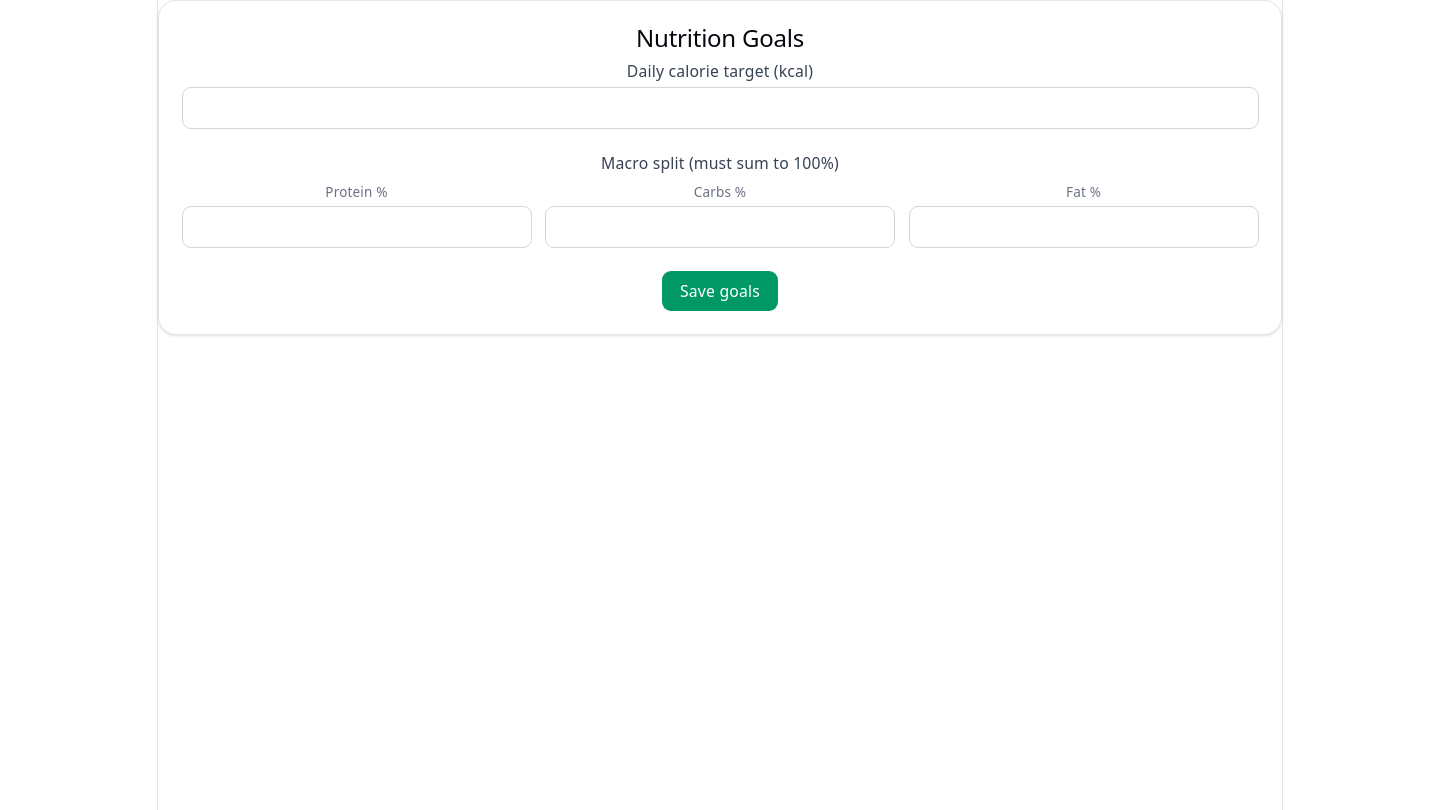
Test: GoalsEditor — macro sum validation (Req 7.3) › shows macro-sum error when percentages do not add up to 100
Note: Fill in a calorie target
Type "2000" into the number field labelled "Daily calorie target (kcal)" at x=720, y=108, box [182,87,1258,129]
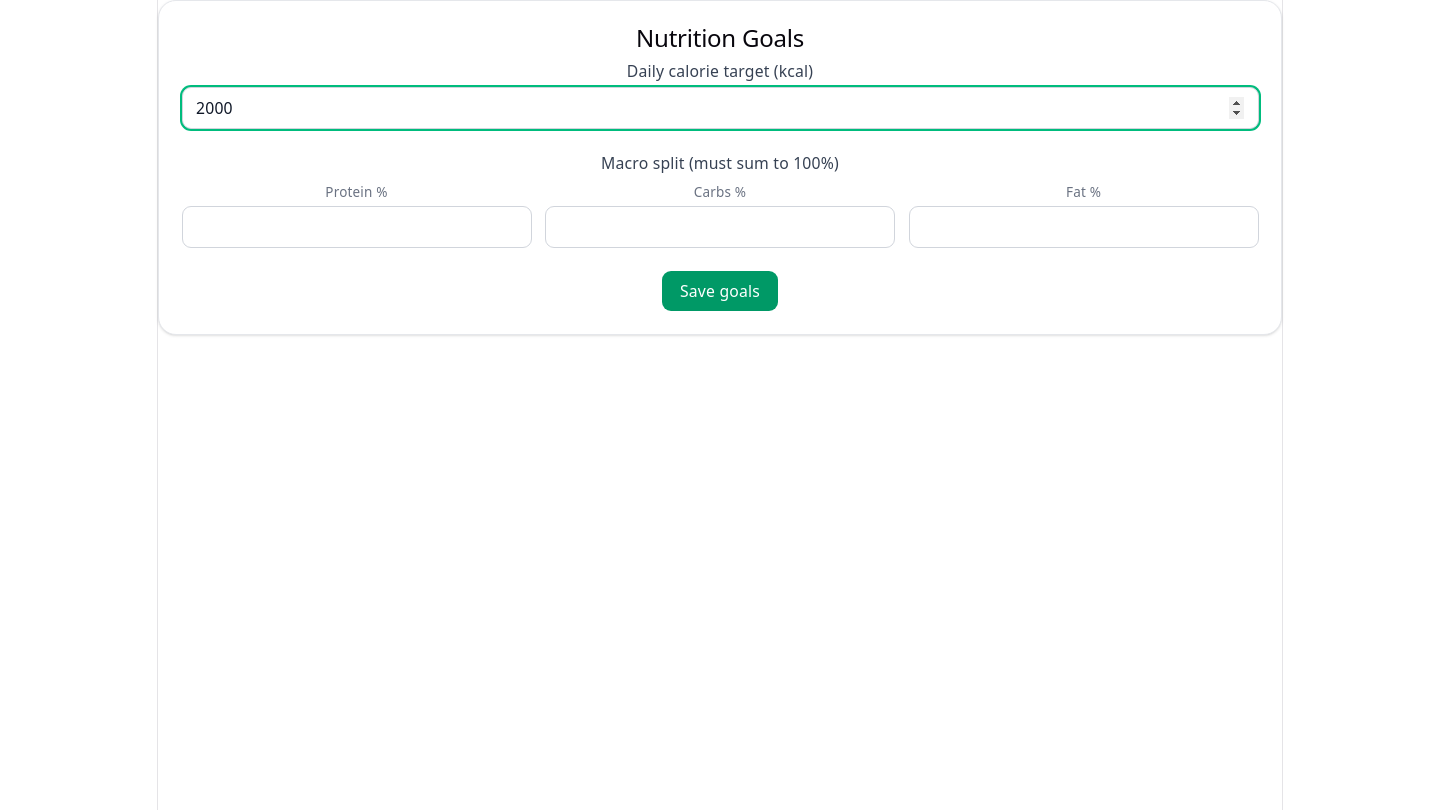
Type "50" into the number field named "protein percentage" at x=356, y=227, box [182,206,532,248]
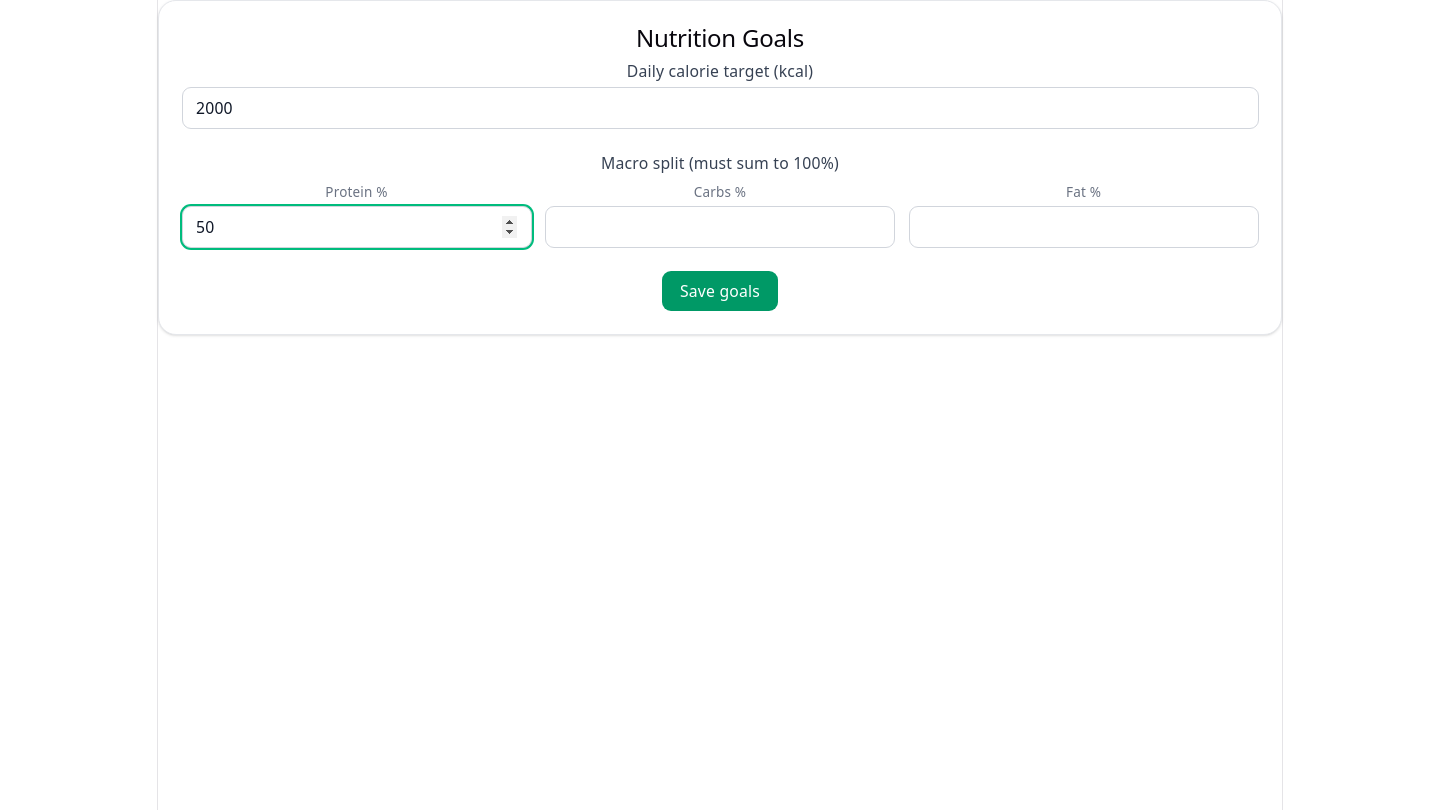
Type "40" into the number field named "carbohydrates percentage" at x=720, y=227, box [545,206,895,248]
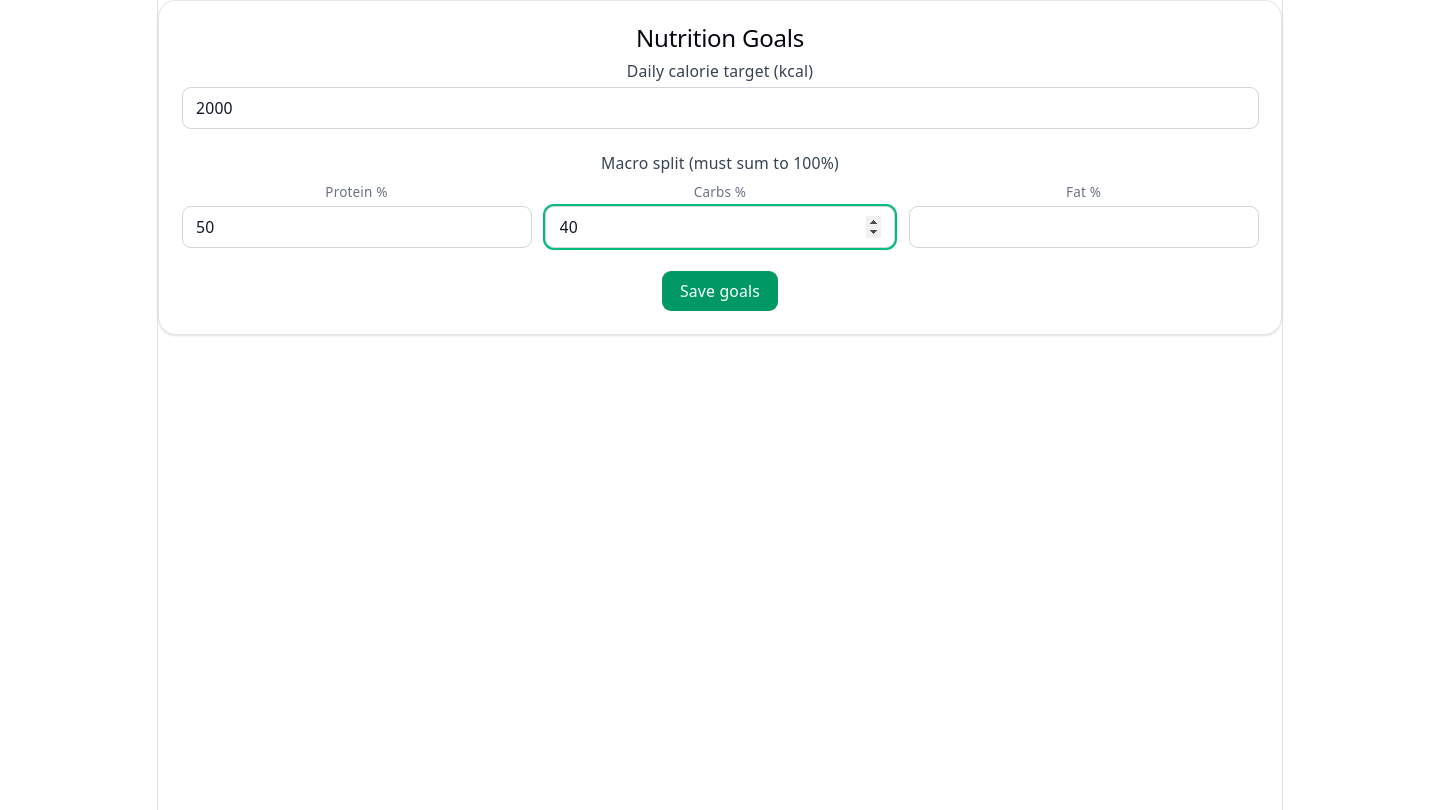
Type "20" into the number field named "fat percentage" at x=1084, y=227, box [908,206,1258,248]
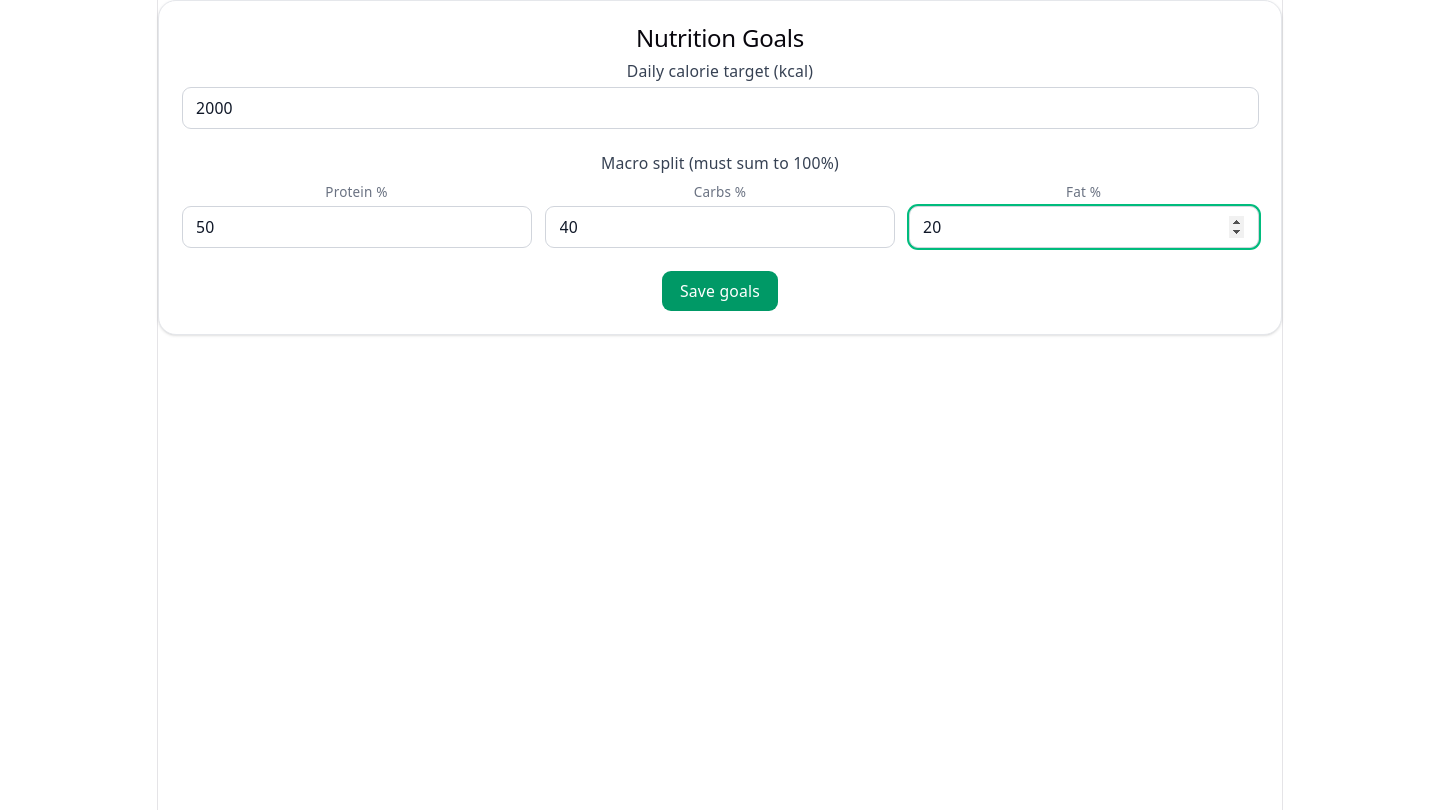
Click the button "Save goals" at x=720, y=291, box [662,271,778,311]
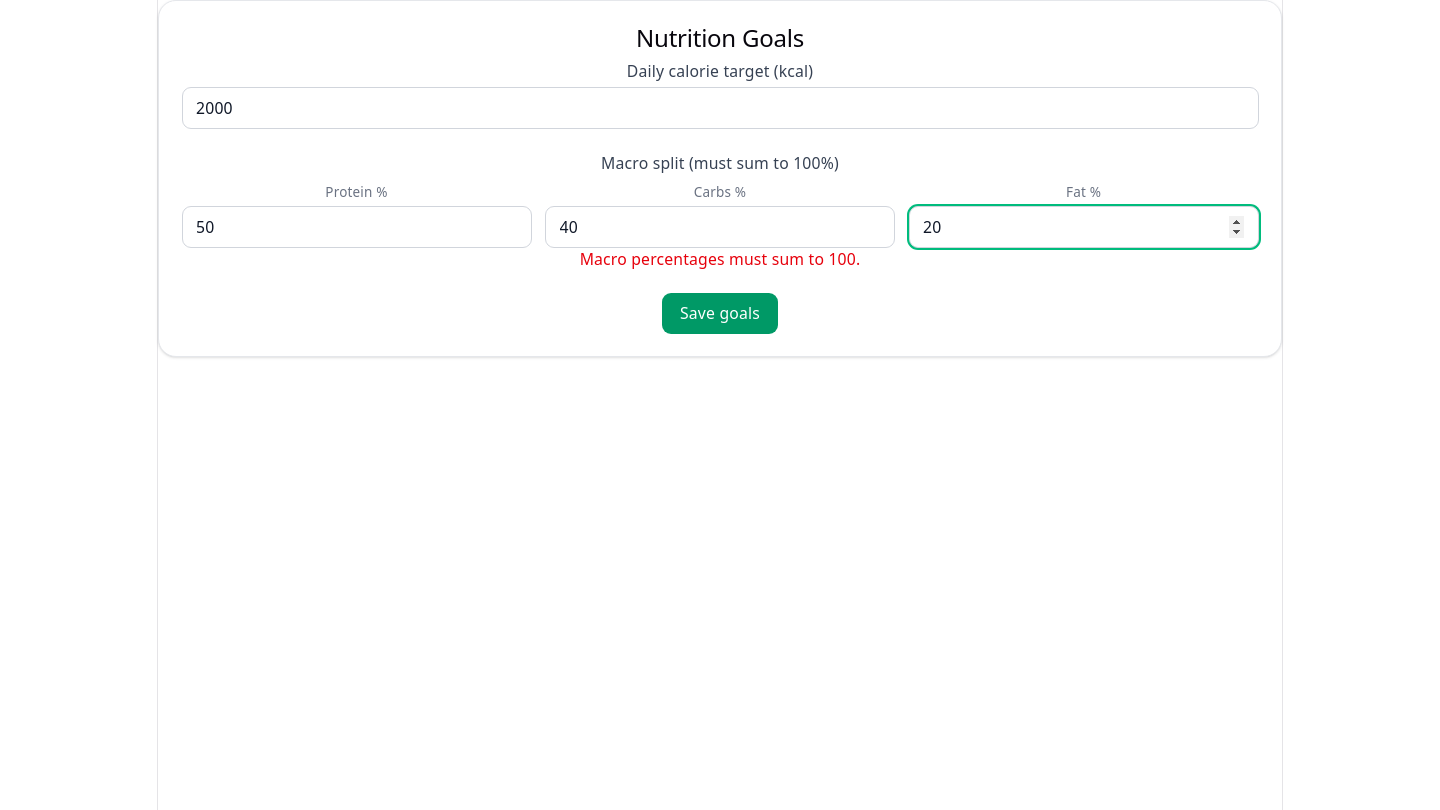
Check: the text "Macro percentages must sum to 100." is shown, box [580,248,860,270]
